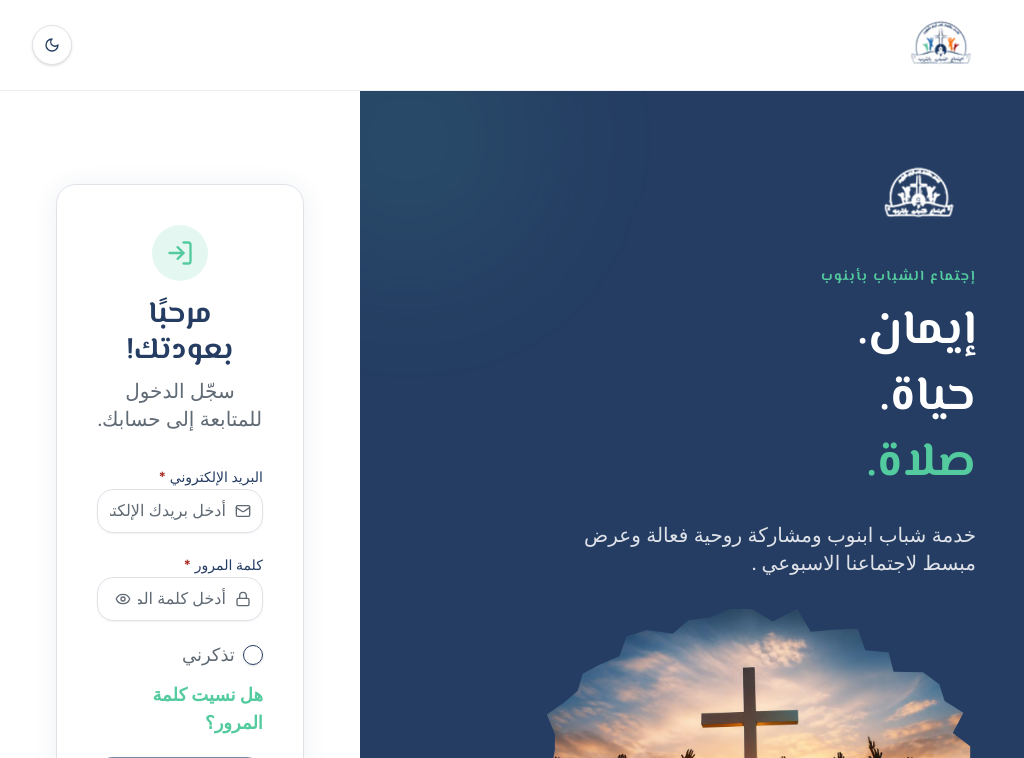
the login page › says that the address is not an address
This screenshot has width=1024, height=758.
Type "not-an-email" into the field labelled "البريد الإلكتروني*" at (180, 511), box top-left (97, 489), bottom-right (263, 533)
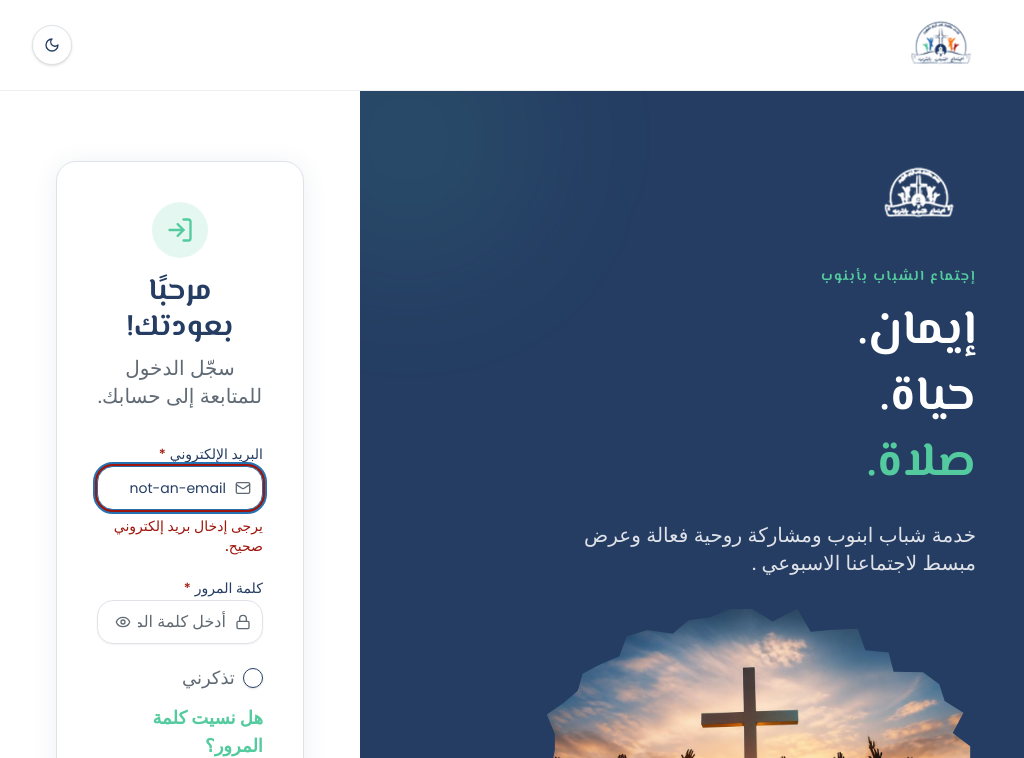
Check: the text "يرجى إدخال بريد إلكتروني صحيح." is shown, box top-left (97, 516), bottom-right (263, 556)
